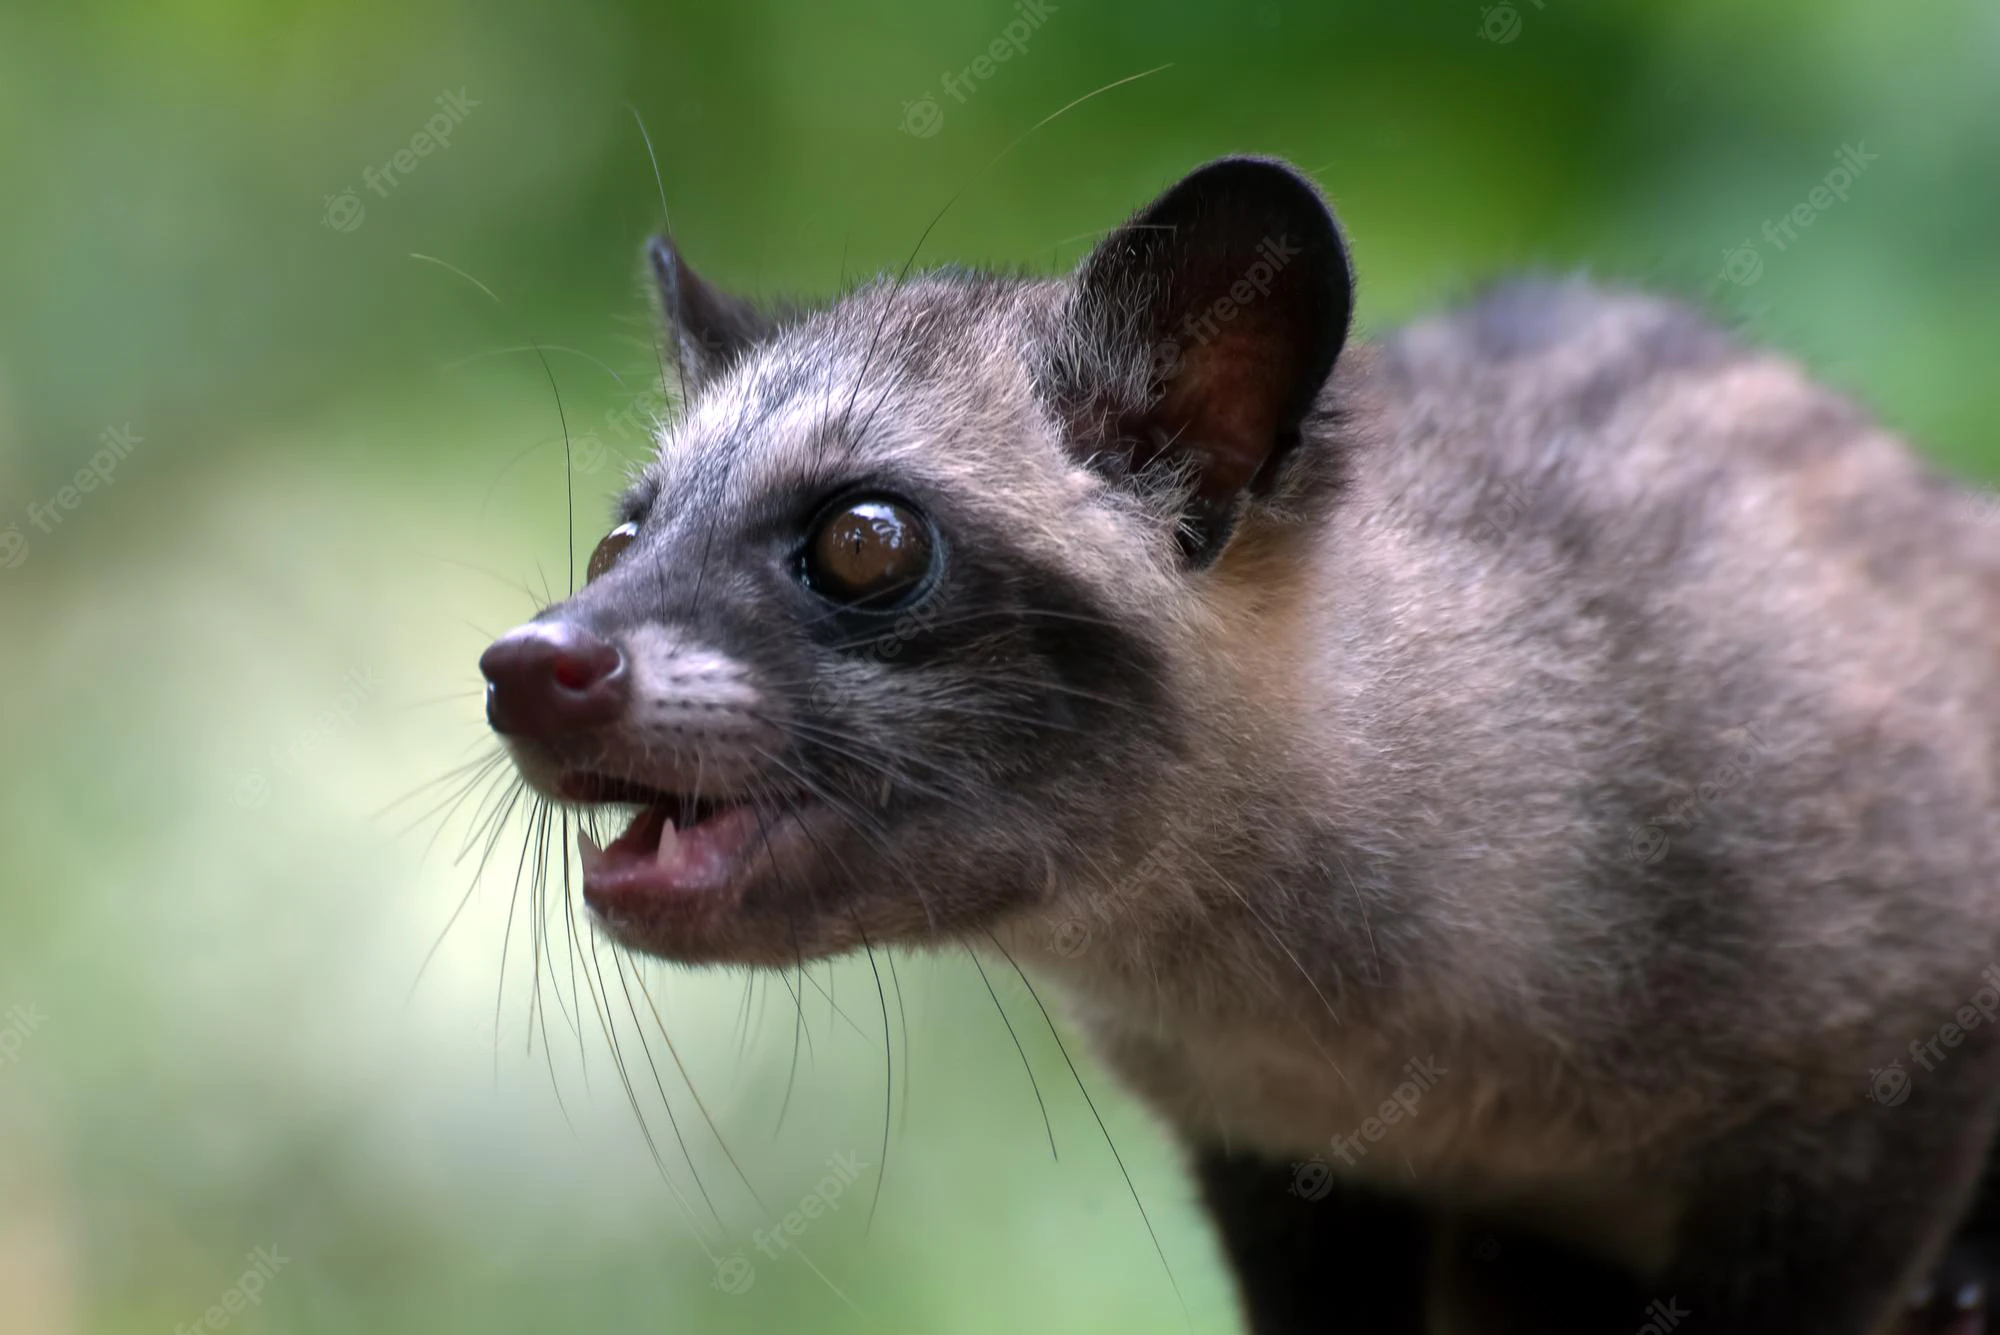Civet: (420, 122, 2000, 1234)
